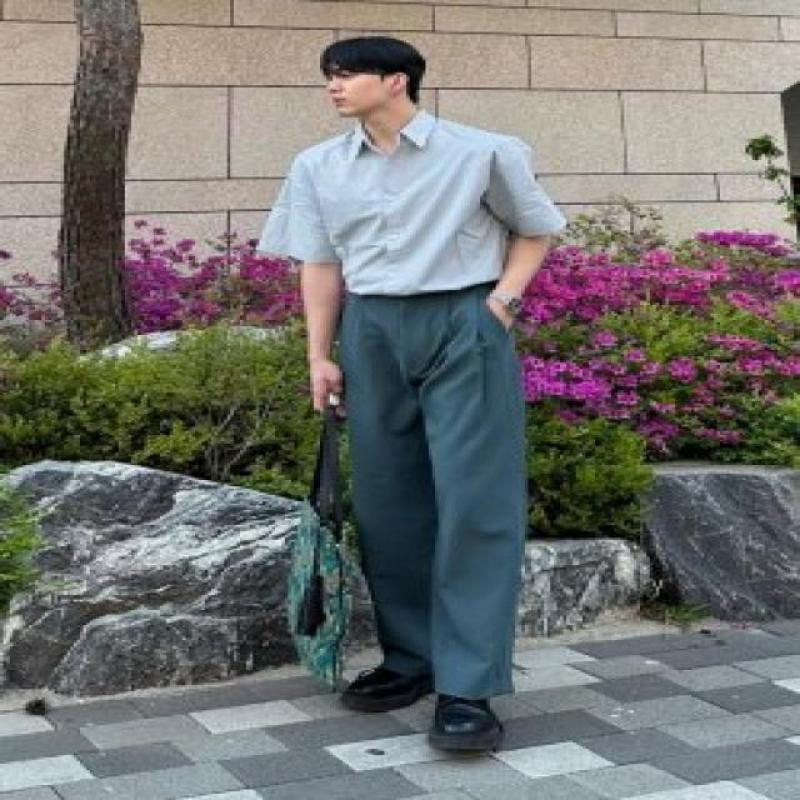short sleeve shirt: (254, 115, 565, 296)
trousers: (339, 290, 528, 703)
